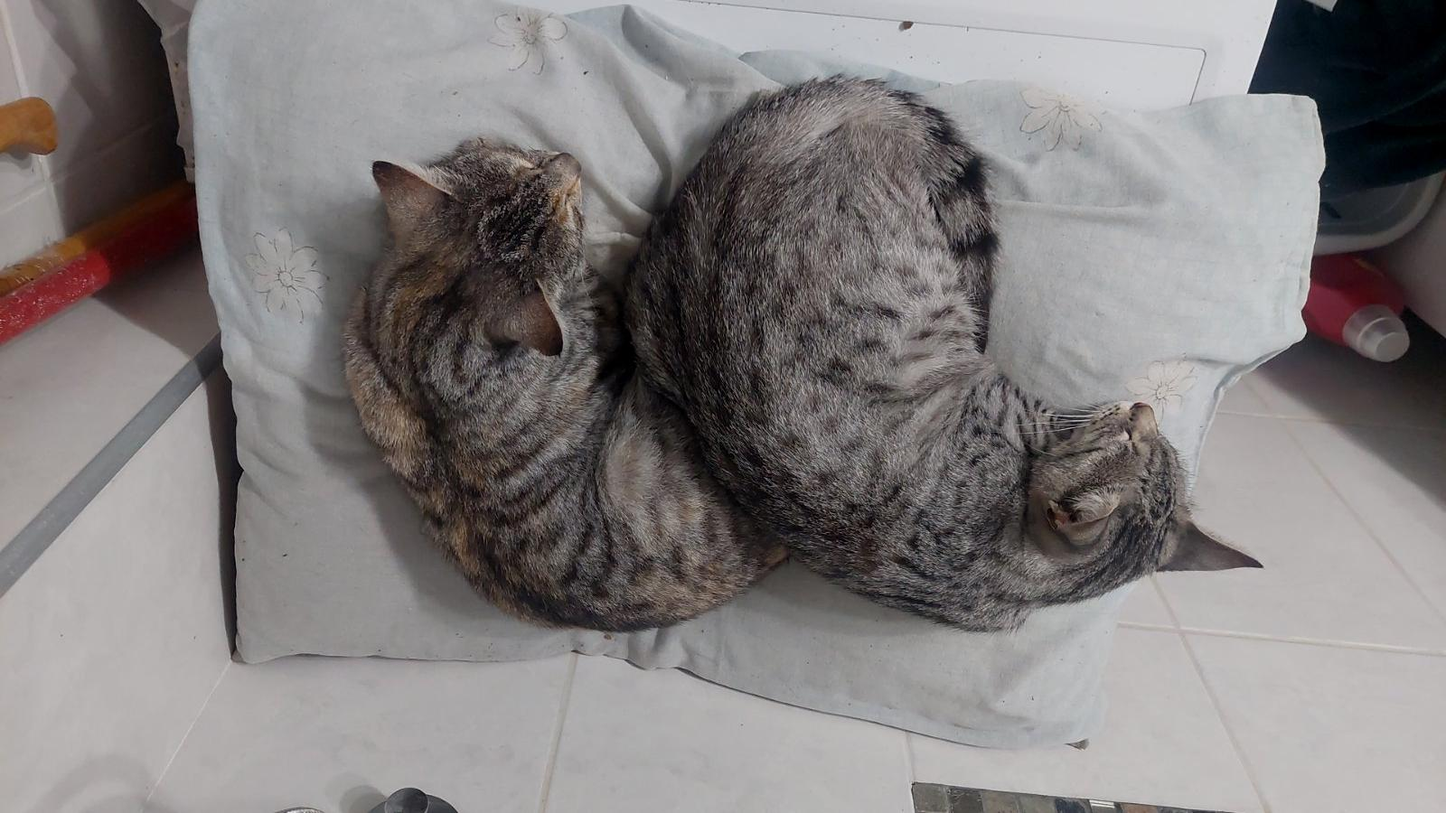macka: (626, 77, 1262, 634), (346, 141, 795, 632)
